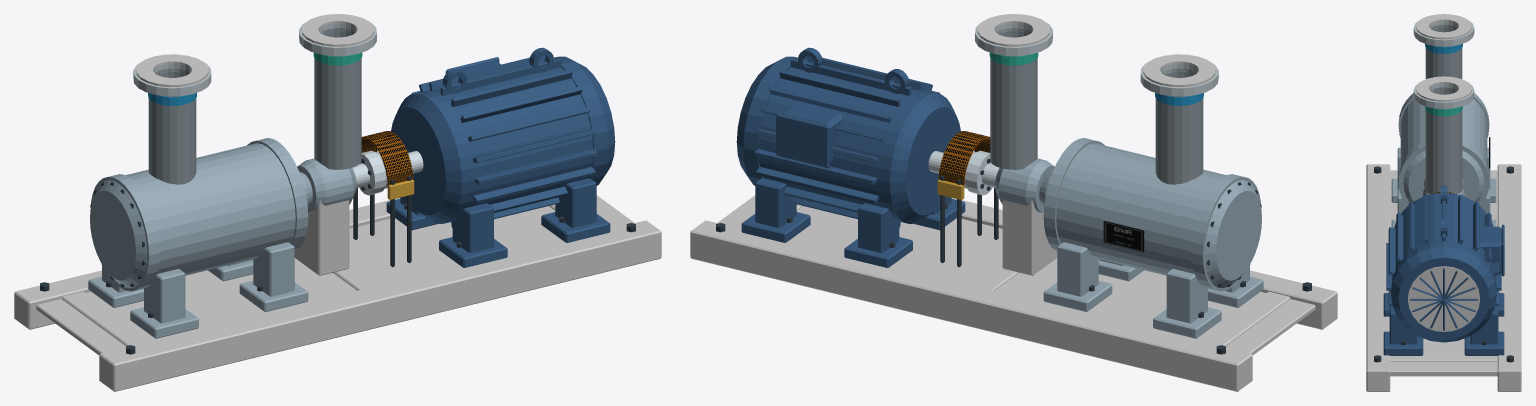
Rendered from compact.obj.
3 renders of one model, left to right at view 1: azimuth 30°, elevation 25°; view 2: azimuth 150°, elevation 25°; view 3: azimuth 270°, elevation 25°, orthographic. The views are drawn at different scales.
Size of the model in its own units: 0.9 by 0.4075 by 0.2853.
